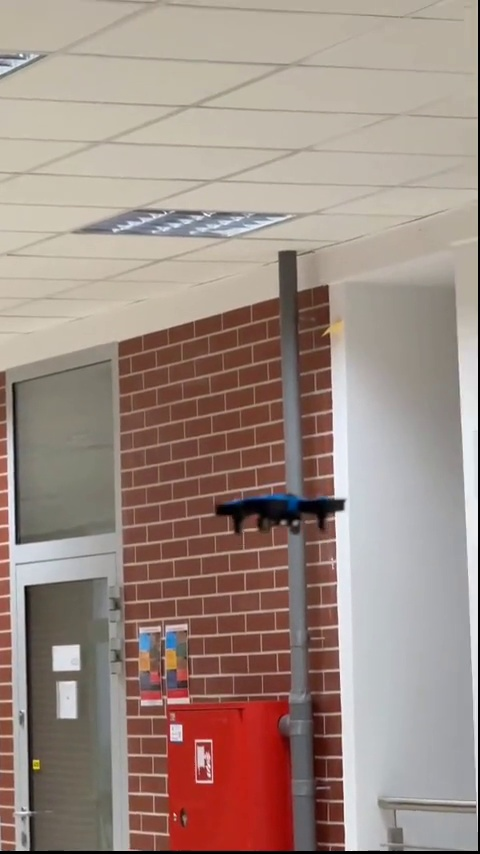drone: (208, 488, 345, 530)
